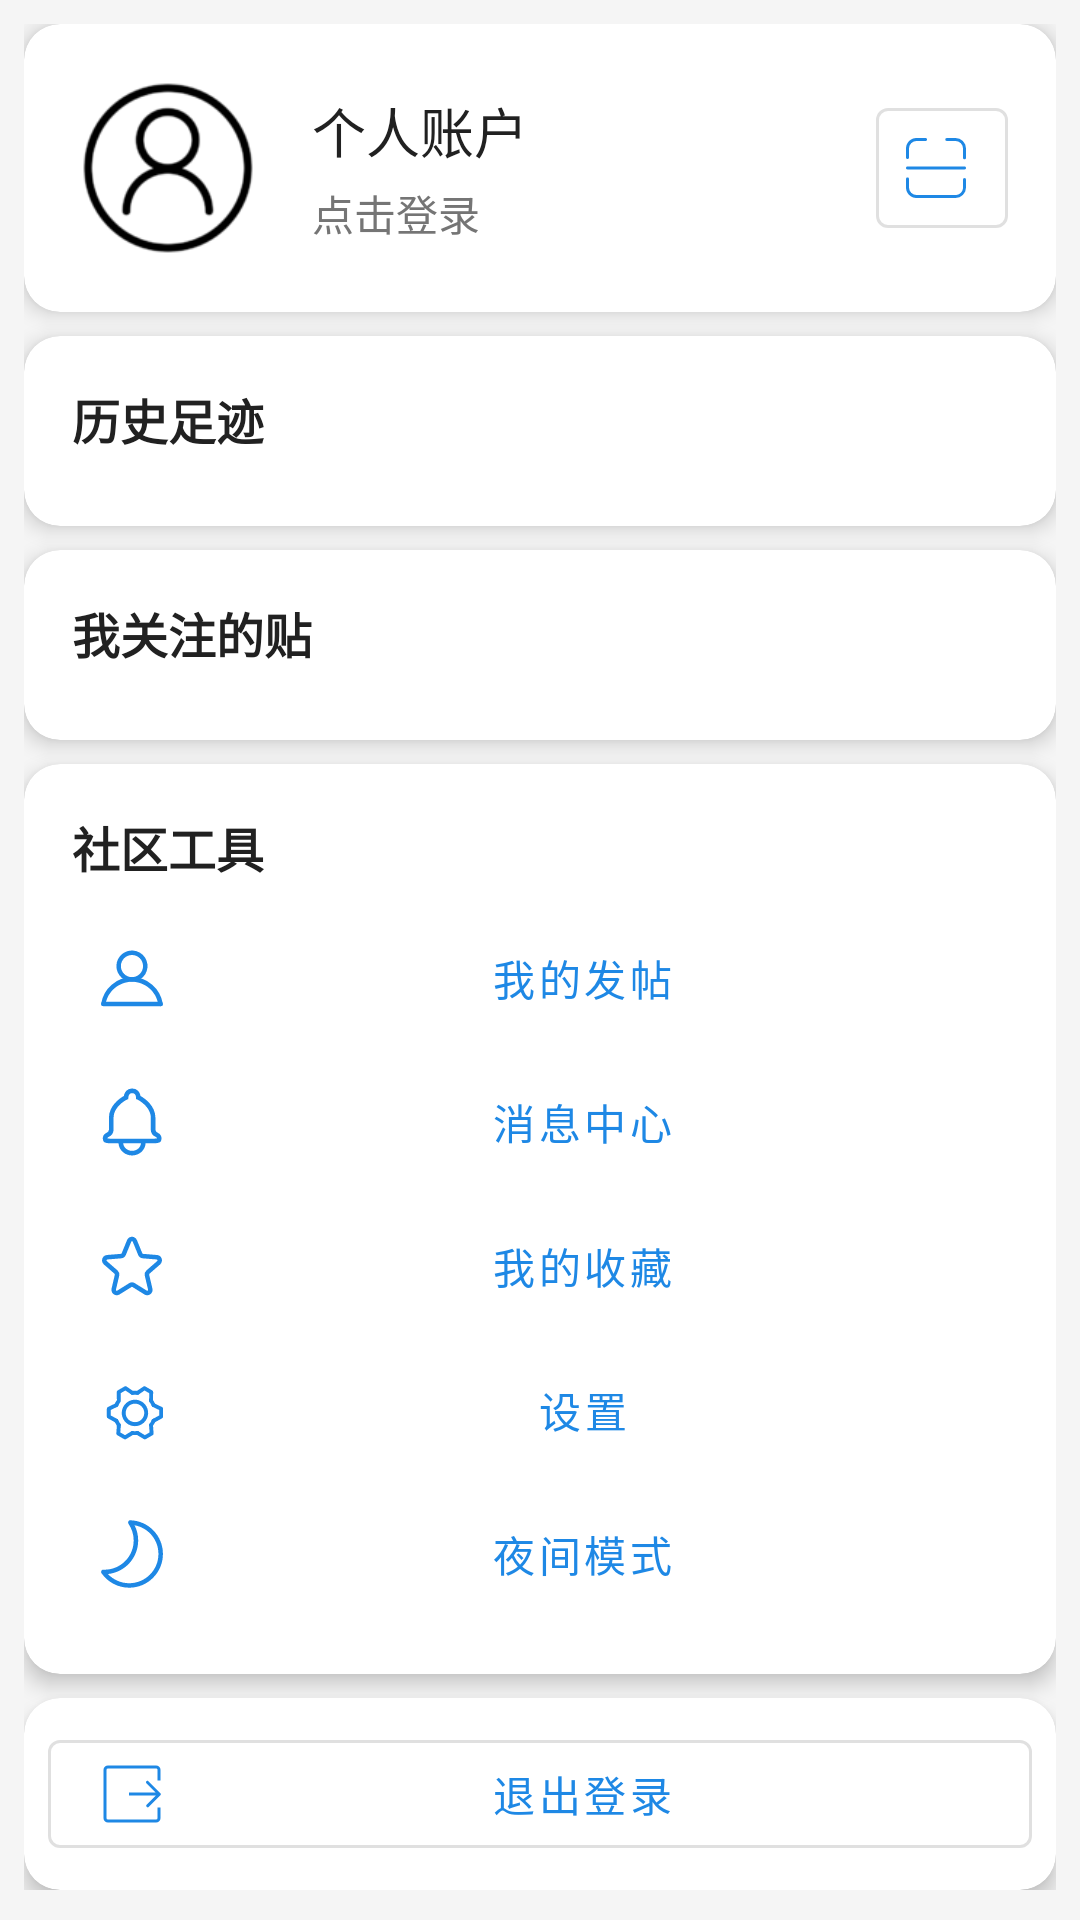

Where to tap for icons on this 1080*1920 app screen, as point (x, y):
scan: point (942, 168)
